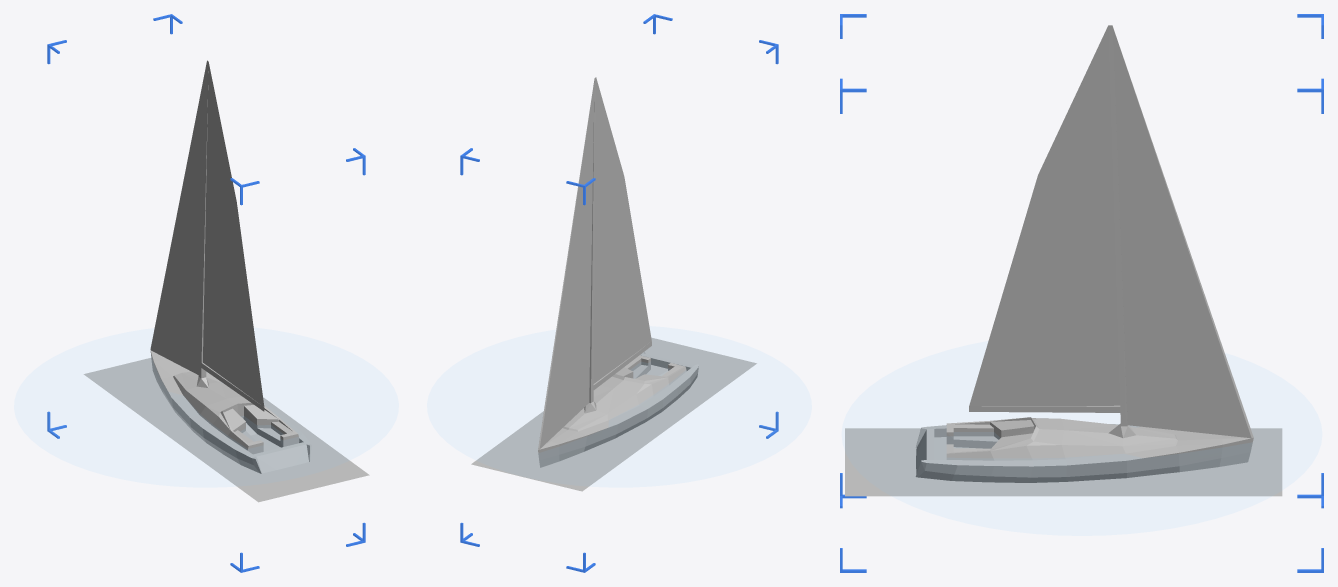
File: SailboatM.glb
3 renders of one model, left to right at view 1: azimuth 30°, elevation 25°; view 2: azimuth 150°, elevation 25°; view 3: azimuth 270°, elevation 25°, orthographic. The views are drawn at different scales.
Visible parts, largest first — view 1: PaperVesselsMesh055, SurfaceGraphic_whiteGlow017, BoundingBox; view 2: PaperVesselsMesh055, SurfaceGraphic_whiteGlow017, BoundingBox, PaperVesselsMesh055_1; view 3: PaperVesselsMesh055_1, PaperVesselsMesh055, SurfaceGraphic_whiteGlow017, BoundingBox.
Part boxes in pixels (x1,y1,x2,y2): PaperVesselsMesh055: [150, 60, 311, 473]; SurfaceGraphic_whiteGlow017: [83, 358, 369, 502]; BoundingBox: [47, 14, 365, 572]; PaperVesselsMesh055: [538, 77, 698, 467]; SurfaceGraphic_whiteGlow017: [471, 337, 756, 491]; BoundingBox: [460, 14, 778, 572]; PaperVesselsMesh055_1: [538, 96, 591, 449]; PaperVesselsMesh055_1: [969, 25, 1253, 438]; PaperVesselsMesh055: [915, 25, 1253, 482]; SurfaceGraphic_whiteGlow017: [845, 428, 1282, 496]; BoundingBox: [840, 14, 1323, 572].
Bounding box in the file's own units: 7.58 × 9 × 7.62.
